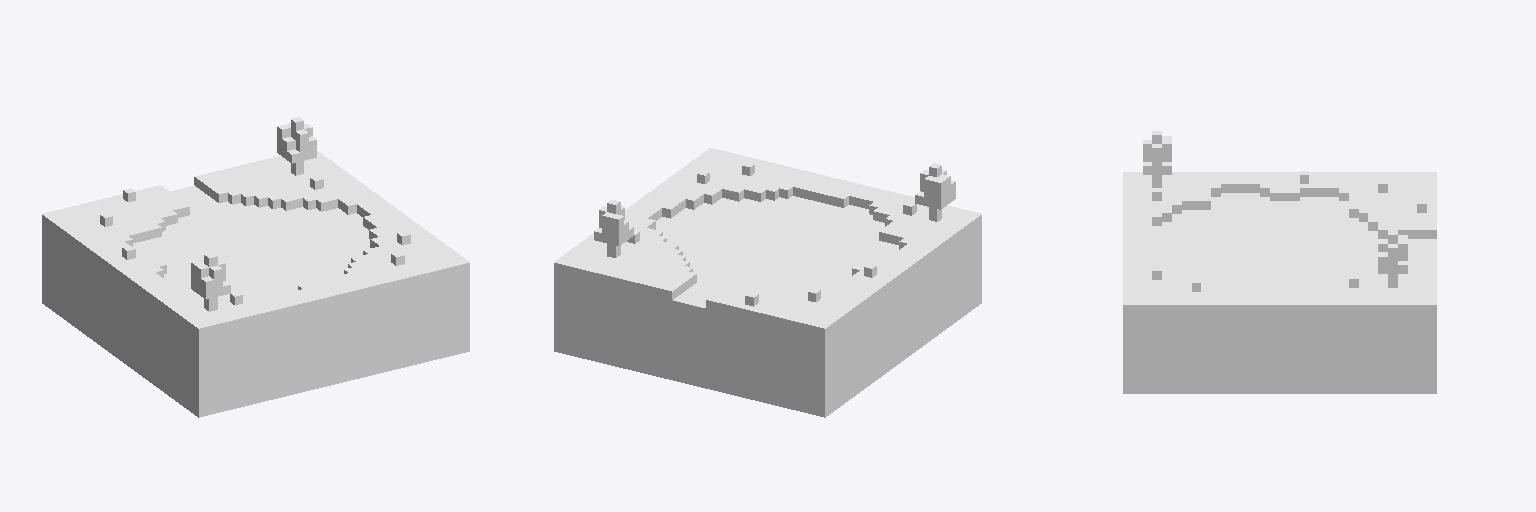
Rendered from Overworld_Land_09.obj.
3 views of the same model, side by side, from view 1: azimuth 30°, elevation 25°; view 2: azimuth 150°, elevation 25°; view 3: azimuth 270°, elevation 25° (orthographic).
Visible parts, largest first — view 1: object 1; view 2: object 1; view 3: object 1.
Boxes of the visible parts, box(x1,y1,x2,y2) form: object 1: box(42, 117, 469, 417); object 1: box(554, 148, 981, 417); object 1: box(1123, 131, 1436, 393).
Bounding box in the file's own units: 3.2 × 1.6 × 3.2.